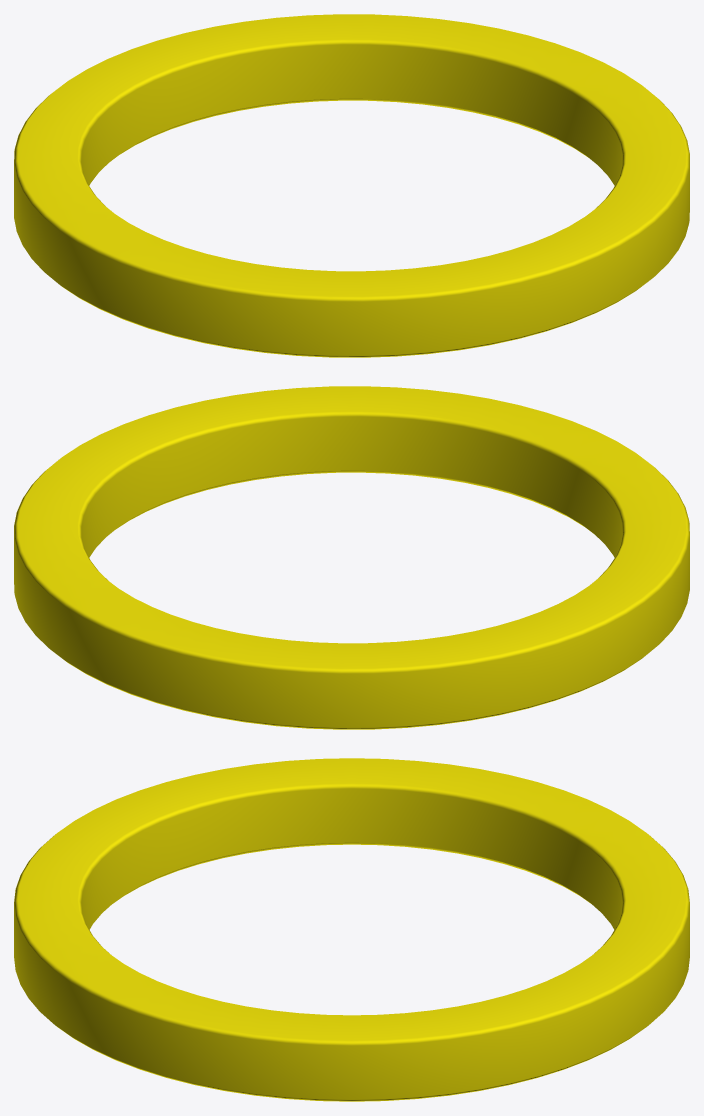
3 renders of one model, top to bottom at view 1: azimuth 30°, elevation 25°; view 2: azimuth 150°, elevation 25°; view 3: azimuth 270°, elevation 25°, orthographic.
Parts seen in each view (by area): view 1: seal_body; view 2: seal_body; view 3: seal_body.
Part boxes in pixels (x1,y1,x2,y2): seal_body: (14,14,689,357); seal_body: (14,386,689,729); seal_body: (14,758,689,1101).
Size of the model in its own units: 0.0635 by 0.00635 by 0.0635.
